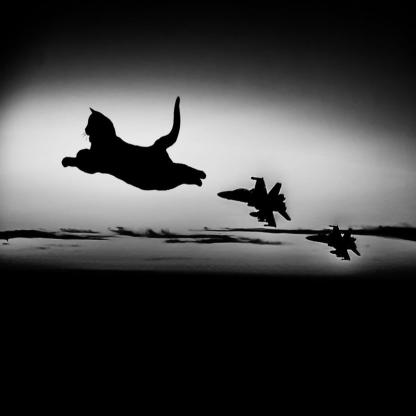F18: (218, 177, 292, 230), (306, 225, 362, 263)
